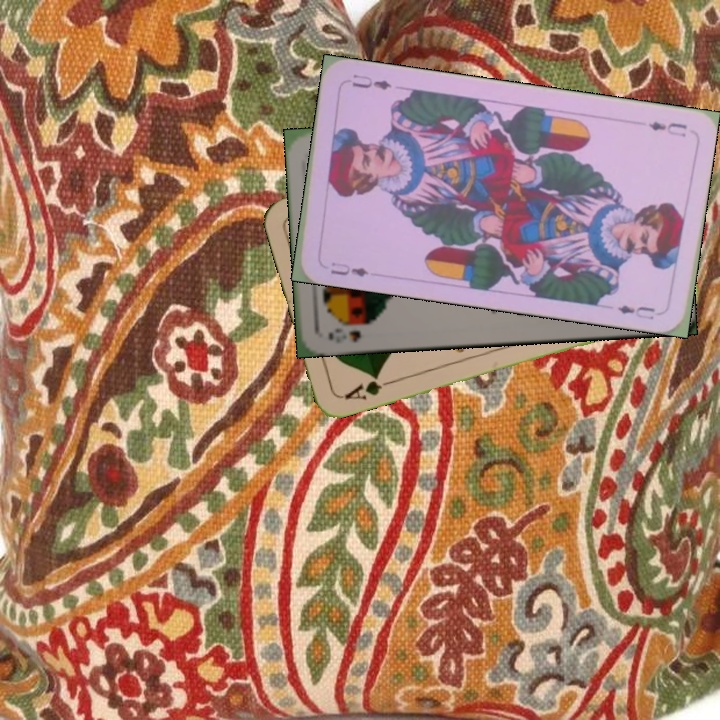EU: (644, 117, 690, 140), (326, 258, 371, 279)
GA: (340, 370, 397, 403)
SO: (324, 324, 364, 345)
